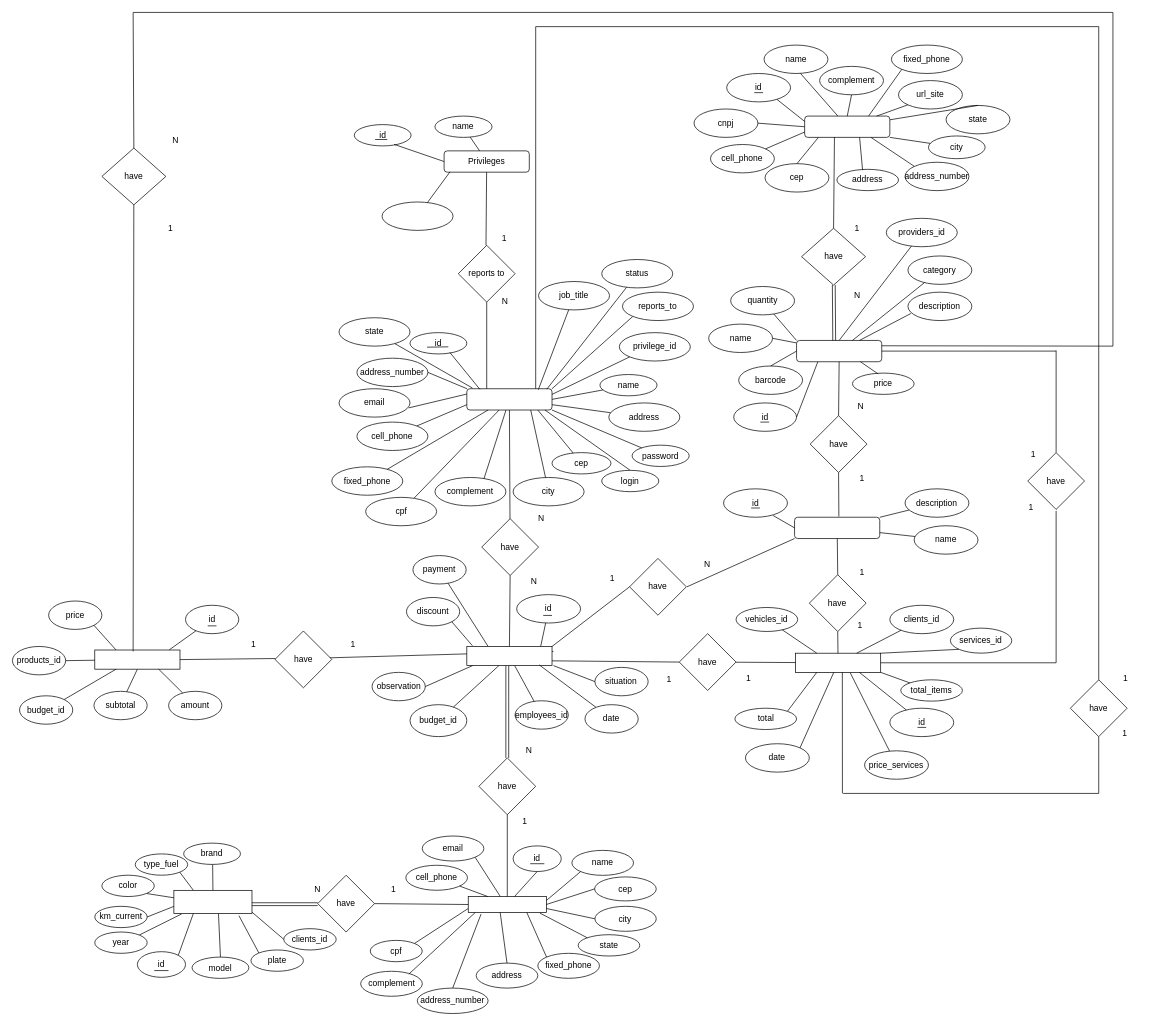
This 1159x1026 diagram has some shape labels left out. The centre of each missing label's shape, as x and y in pixels:
budget: (x=838, y=662)
Clients: (x=507, y=904)
Employees: (x=509, y=399)
is_superadmin: (x=417, y=215)
orders: (x=509, y=656)
orders_details: (x=137, y=659)
Products: (x=839, y=351)
Providers: (x=847, y=126)
Services: (x=837, y=528)
Vehicles: (x=212, y=901)
